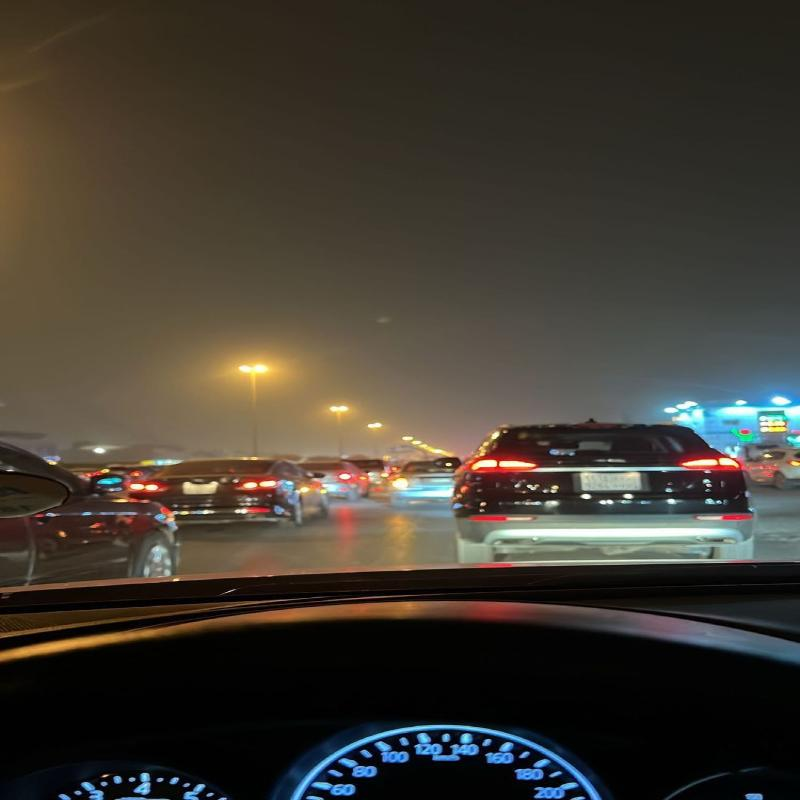license plate on a car: (579, 464, 656, 495), (179, 479, 227, 495)
